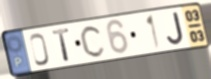0: (29, 32, 51, 68)
1: (145, 12, 162, 52)
6: (104, 17, 132, 57)
C: (79, 23, 107, 59)
J: (166, 10, 186, 46)
T: (51, 27, 72, 63)
